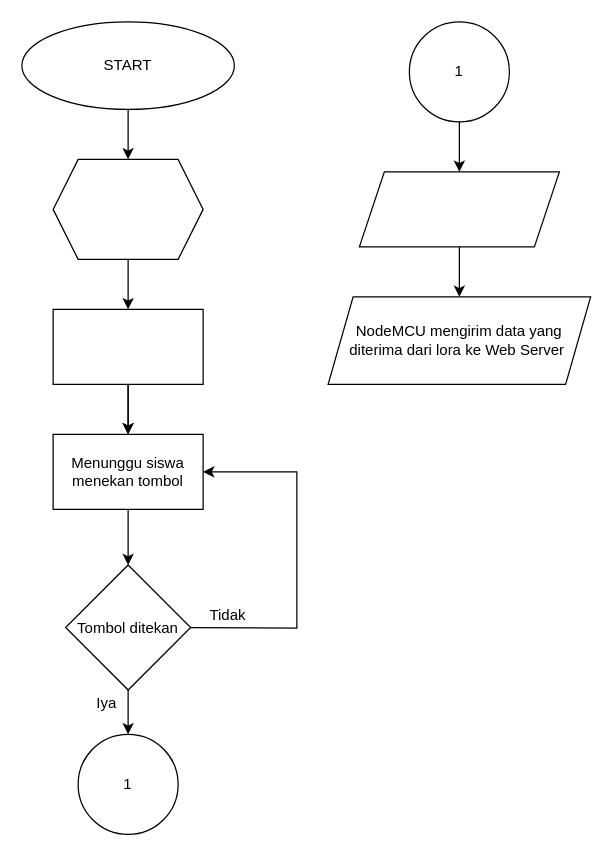
This 613x856 diagram has some shape labels left out. The centre of each missing label's shape, as x and y in pixels:
"Data dikirim dari lora transmitter ke receiver" goes at point 458,209.
"Menyambungkan wifi dan LoRa" goes at point 127,346.
"Rangkaian Menyala" goes at point 127,208.
